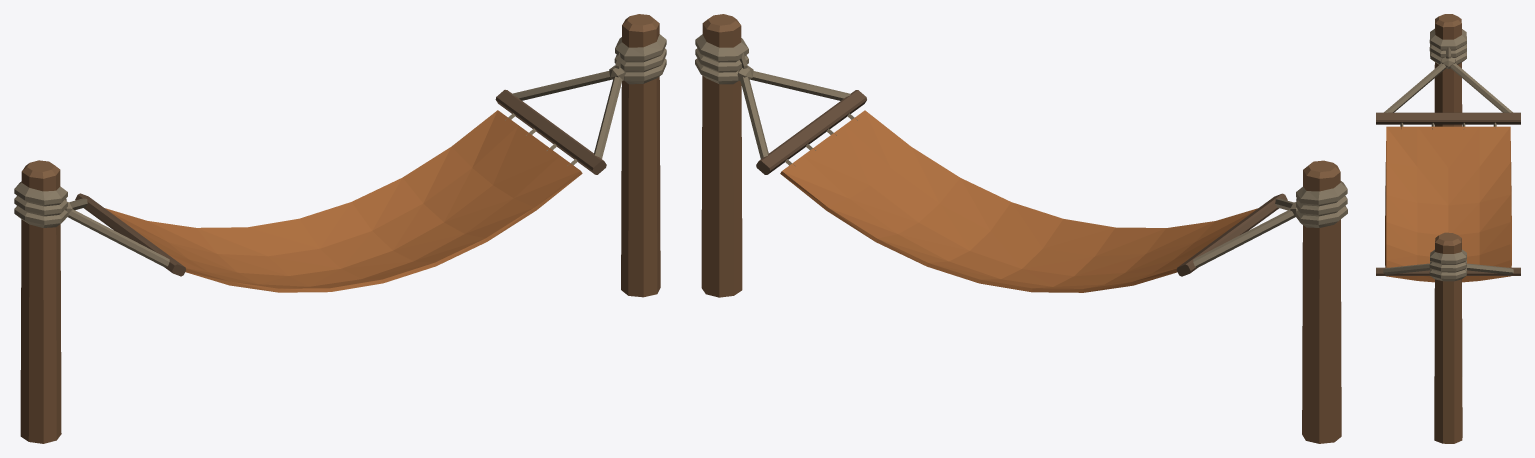
Rendered from hammock-on-posts-7d5c47.glb.
3 renders of one model, left to right at view 1: azimuth 30°, elevation 25°; view 2: azimuth 150°, elevation 25°; view 3: azimuth 270°, elevation 25°, orthographic. The views are drawn at different scales.
Parts seen in each view (by area): view 1: hammock, object 1; view 2: hammock, object 1; view 3: hammock, object 1.
Part boxes in pixels (<box>): hammock: <box>68,71,622,292</box>; object 1: <box>14,14,666,443</box>; hammock: <box>740,71,1295,292</box>; object 1: <box>695,14,1347,443</box>; hammock: <box>1376,63,1520,282</box>; object 1: <box>1429,14,1466,443</box>.
Bounding box in the file's own units: 3.75 × 1.5 × 0.98.
